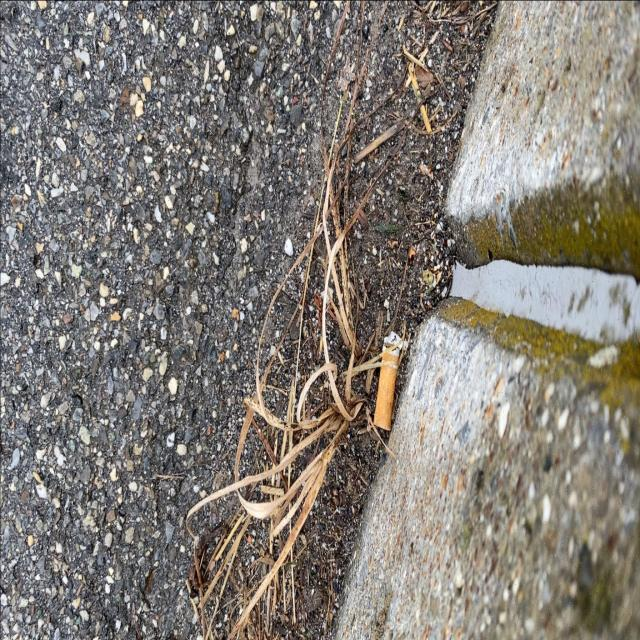other waste: (373, 329, 404, 431)
